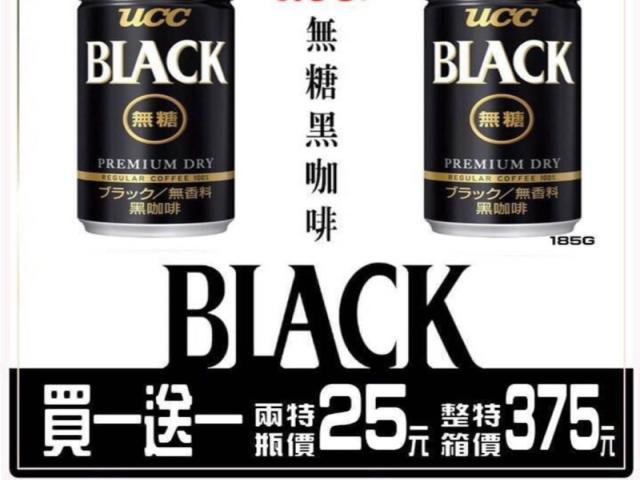Canned_drinks: (78, 0, 234, 236), (425, 0, 581, 236)
